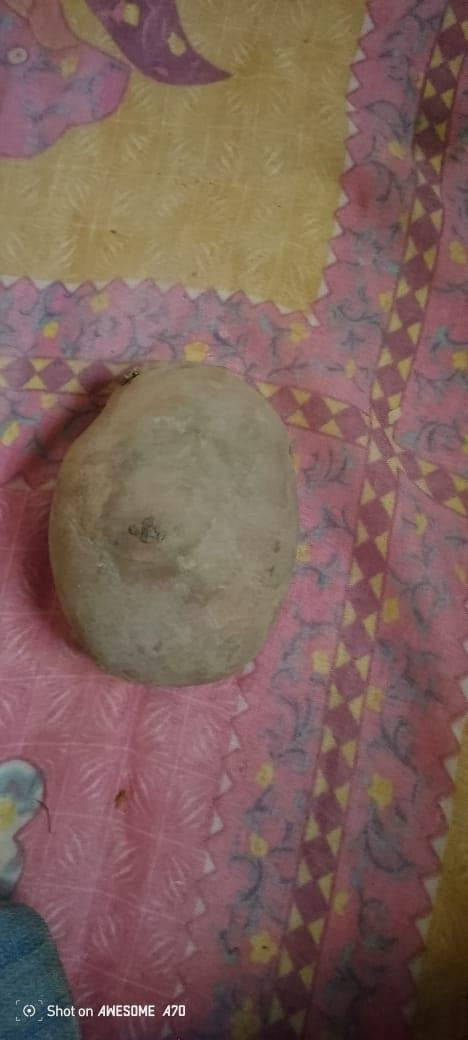non-mango: (53, 358, 296, 683)
